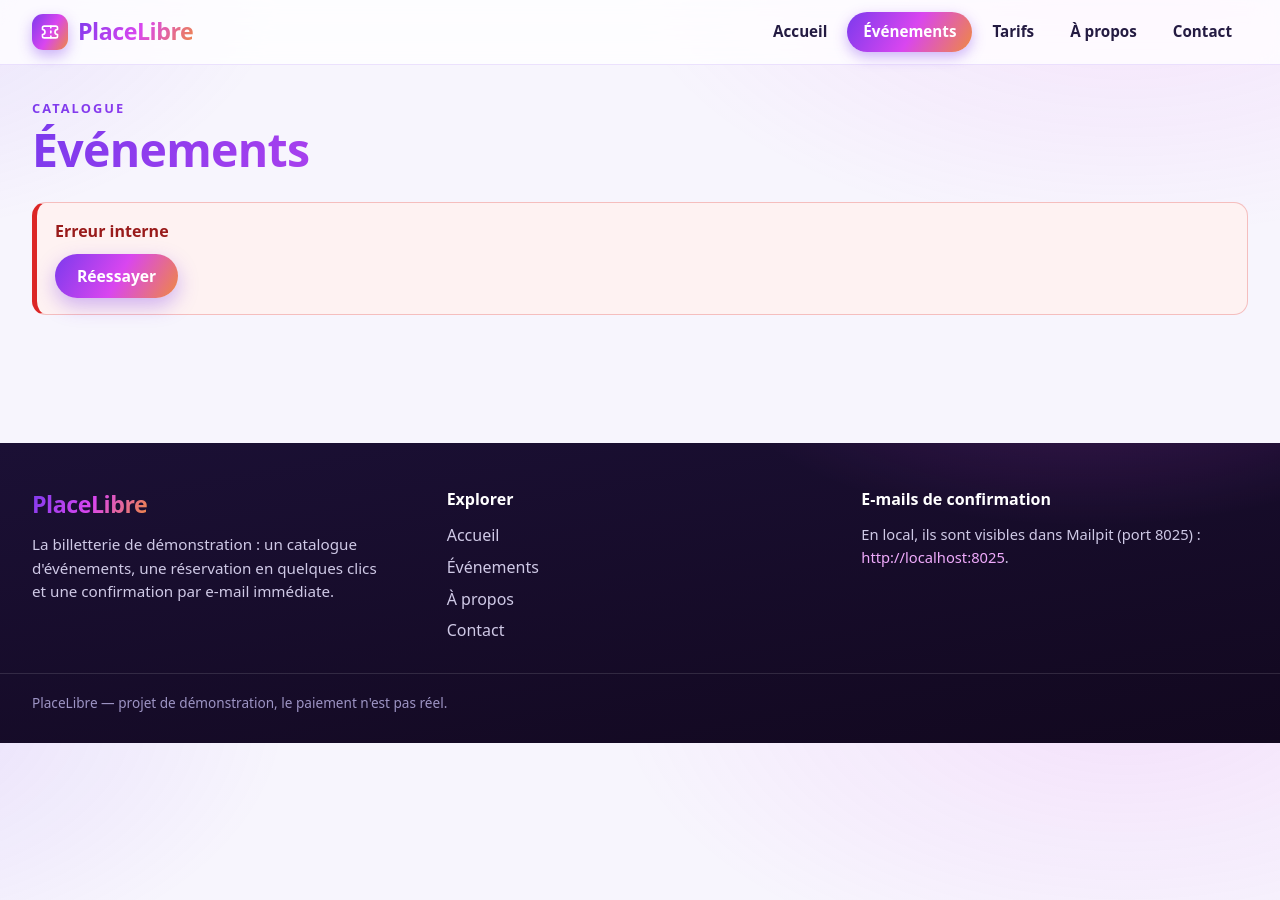
Test: page des événements (/evenements) › affiche une erreur avec un bouton Réessayer quand l'API échoue, puis se rétablit
This screenshot has width=1280, height=900.
Expected: the message shows "Erreur interne", [55, 220, 169, 242]
Click the button "Réessayer" at (117, 276), box [55, 254, 178, 298]
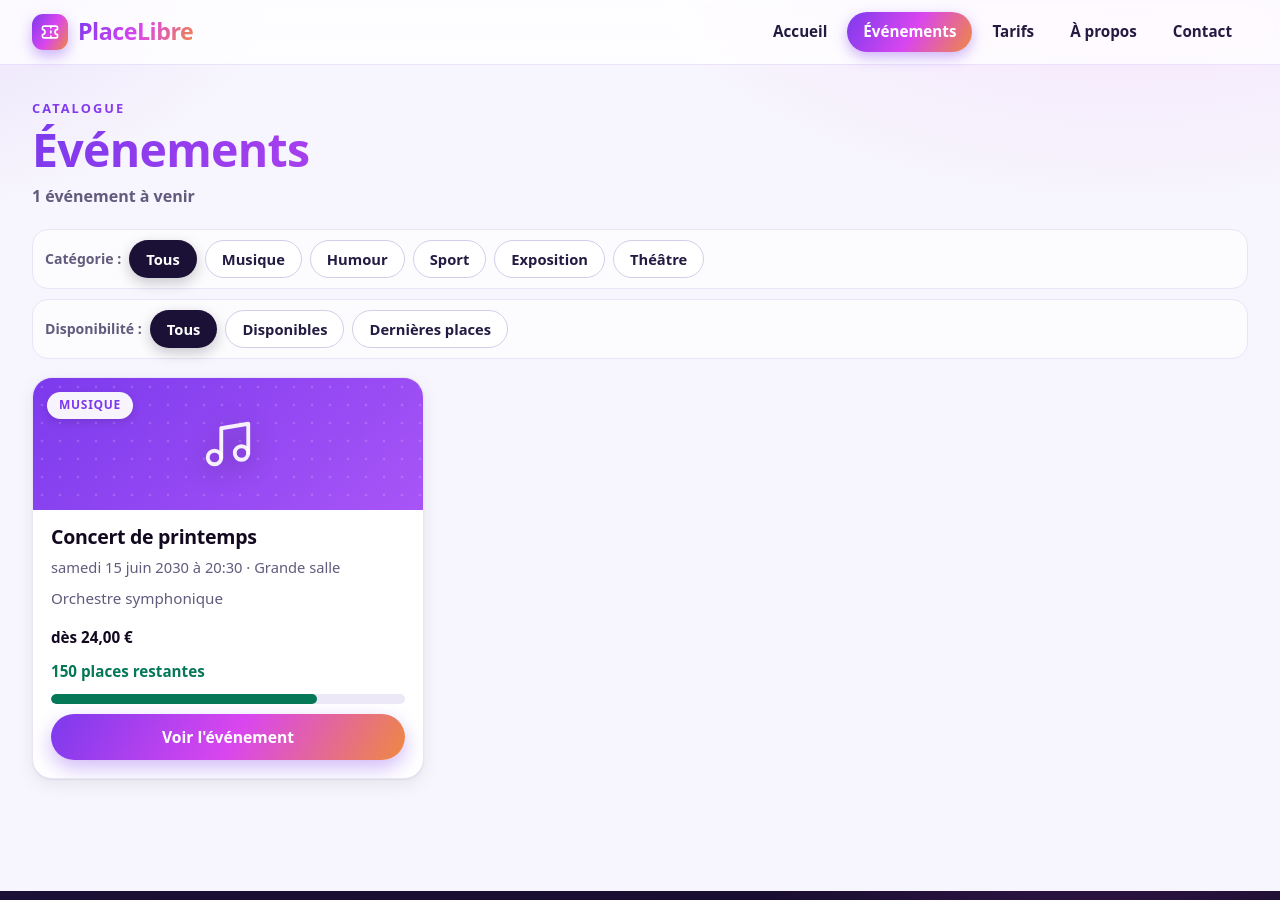
Now the link "Concert de printemps" is shown, box [51, 523, 257, 550]
